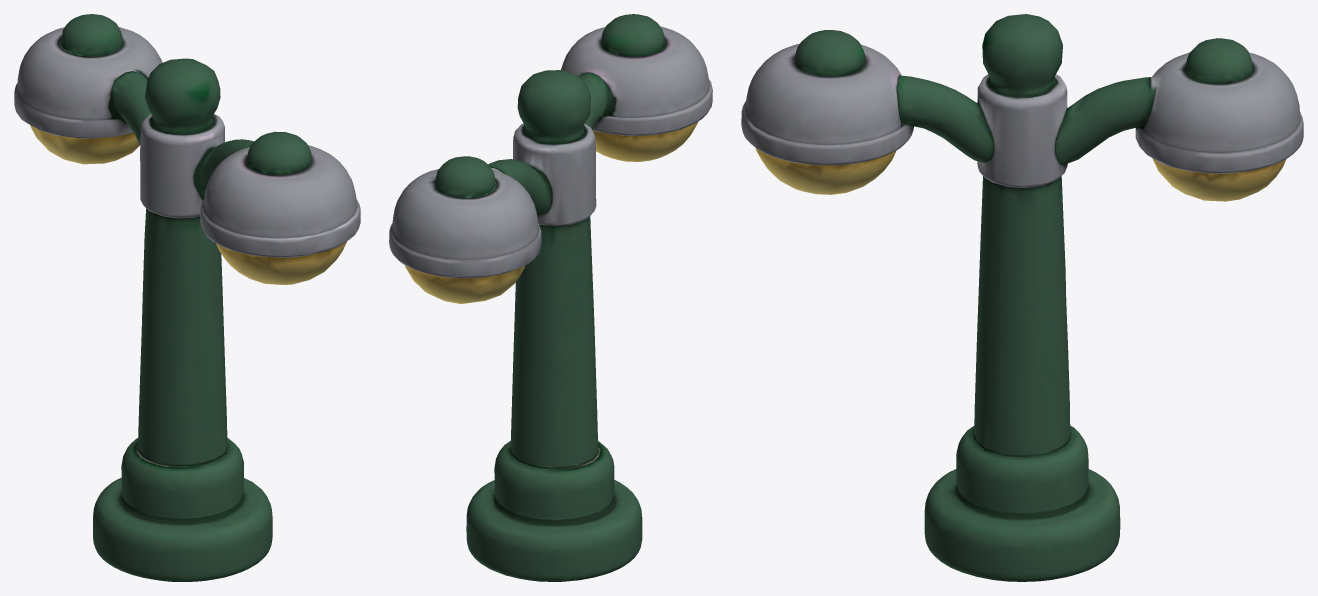
Rendered from lamp_double.glb.
The picture shows the model from 3 angles, left to right: view 1: azimuth 30°, elevation 25°; view 2: azimuth 150°, elevation 25°; view 3: azimuth 270°, elevation 25°; orthographic projection. The views are drawn at different scales.
Parts seen in each view (by area): view 1: tripo_node_2fc16c3c-9943-45a9-b2e9-54b4532564f6; view 2: tripo_node_2fc16c3c-9943-45a9-b2e9-54b4532564f6; view 3: tripo_node_2fc16c3c-9943-45a9-b2e9-54b4532564f6.
Boxes of the visible parts, x1,y1,x2,y2 form: tripo_node_2fc16c3c-9943-45a9-b2e9-54b4532564f6: (14, 14, 360, 581); tripo_node_2fc16c3c-9943-45a9-b2e9-54b4532564f6: (389, 14, 712, 581); tripo_node_2fc16c3c-9943-45a9-b2e9-54b4532564f6: (741, 14, 1303, 581).
Size of the model in its own units: 0.3297 by 0.9801 by 0.9488.
Materials: 1 (1 with a texture image).
